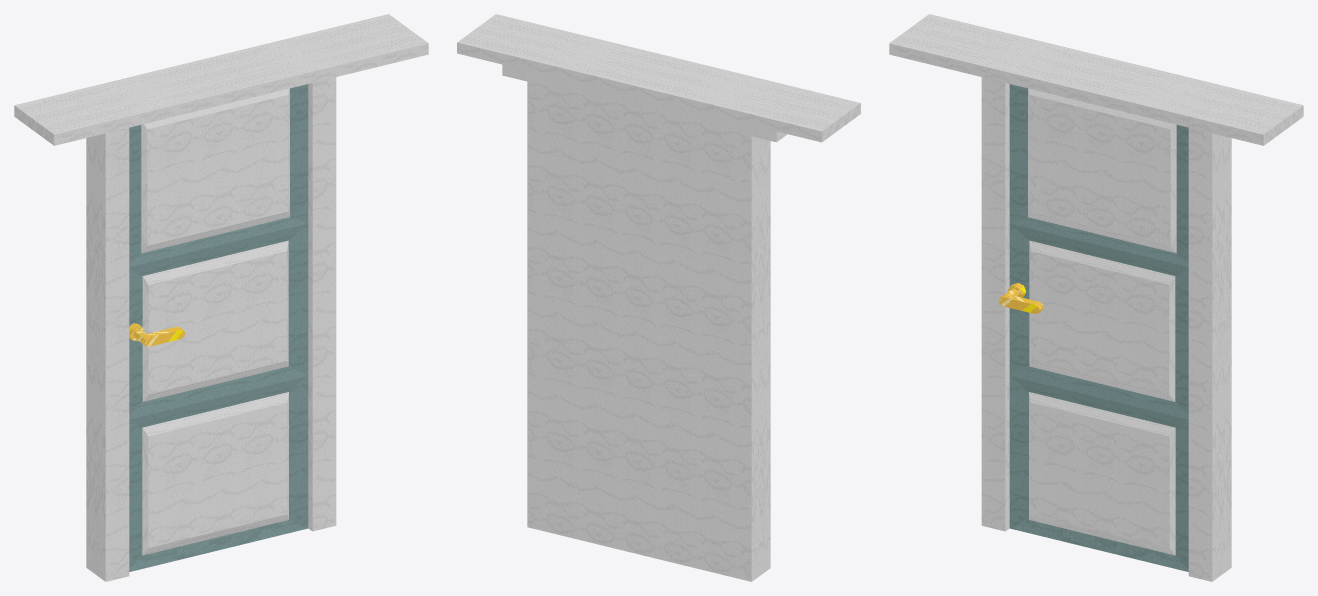
The model's file is door.glb.
3 views of the same model, side by side, from view 1: azimuth 30°, elevation 25°; view 2: azimuth 150°, elevation 25°; view 3: azimuth 330°, elevation 25° (orthographic). The views are drawn at different scales.
Parts seen in each view (by area): view 1: Cube, Cylinder; view 2: Cube; view 3: Cube, Cylinder.
Boxes of the visible parts, <box> form: Cube: <box>14,14,428,581</box>; Cylinder: <box>129,323,185,346</box>; Cube: <box>457,14,860,581</box>; Cube: <box>889,14,1303,581</box>; Cylinder: <box>998,283,1043,313</box>.
Bounding box in the file's own units: 1.66 × 2.03 × 0.3073.
3 materials, 3 textured.
